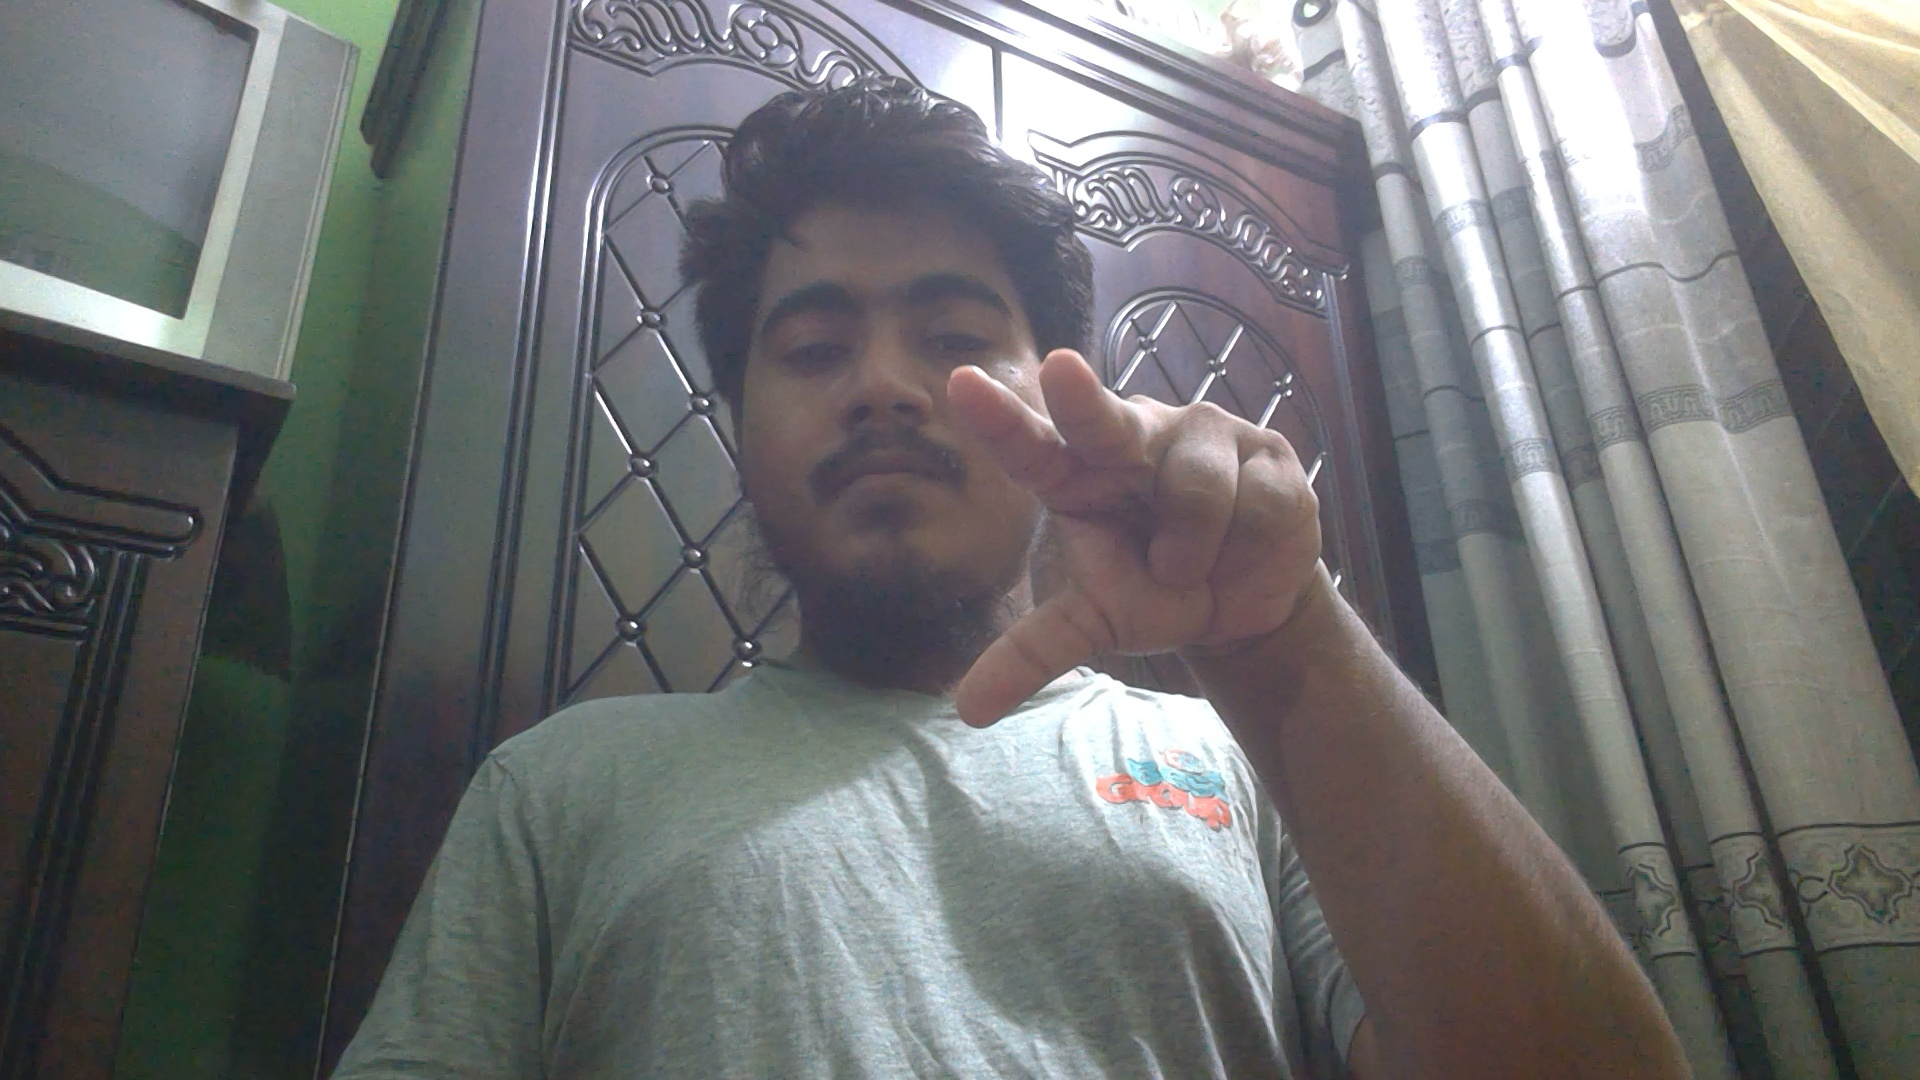No: (927, 338, 1342, 741)
